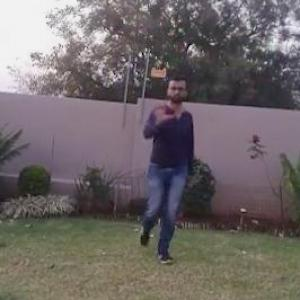follow_hand: (148, 96, 174, 125)
